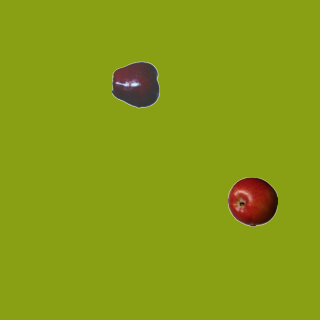Apple Braeburn: (227, 176, 277, 226)
Apple Red Delicious: (111, 59, 161, 109)
